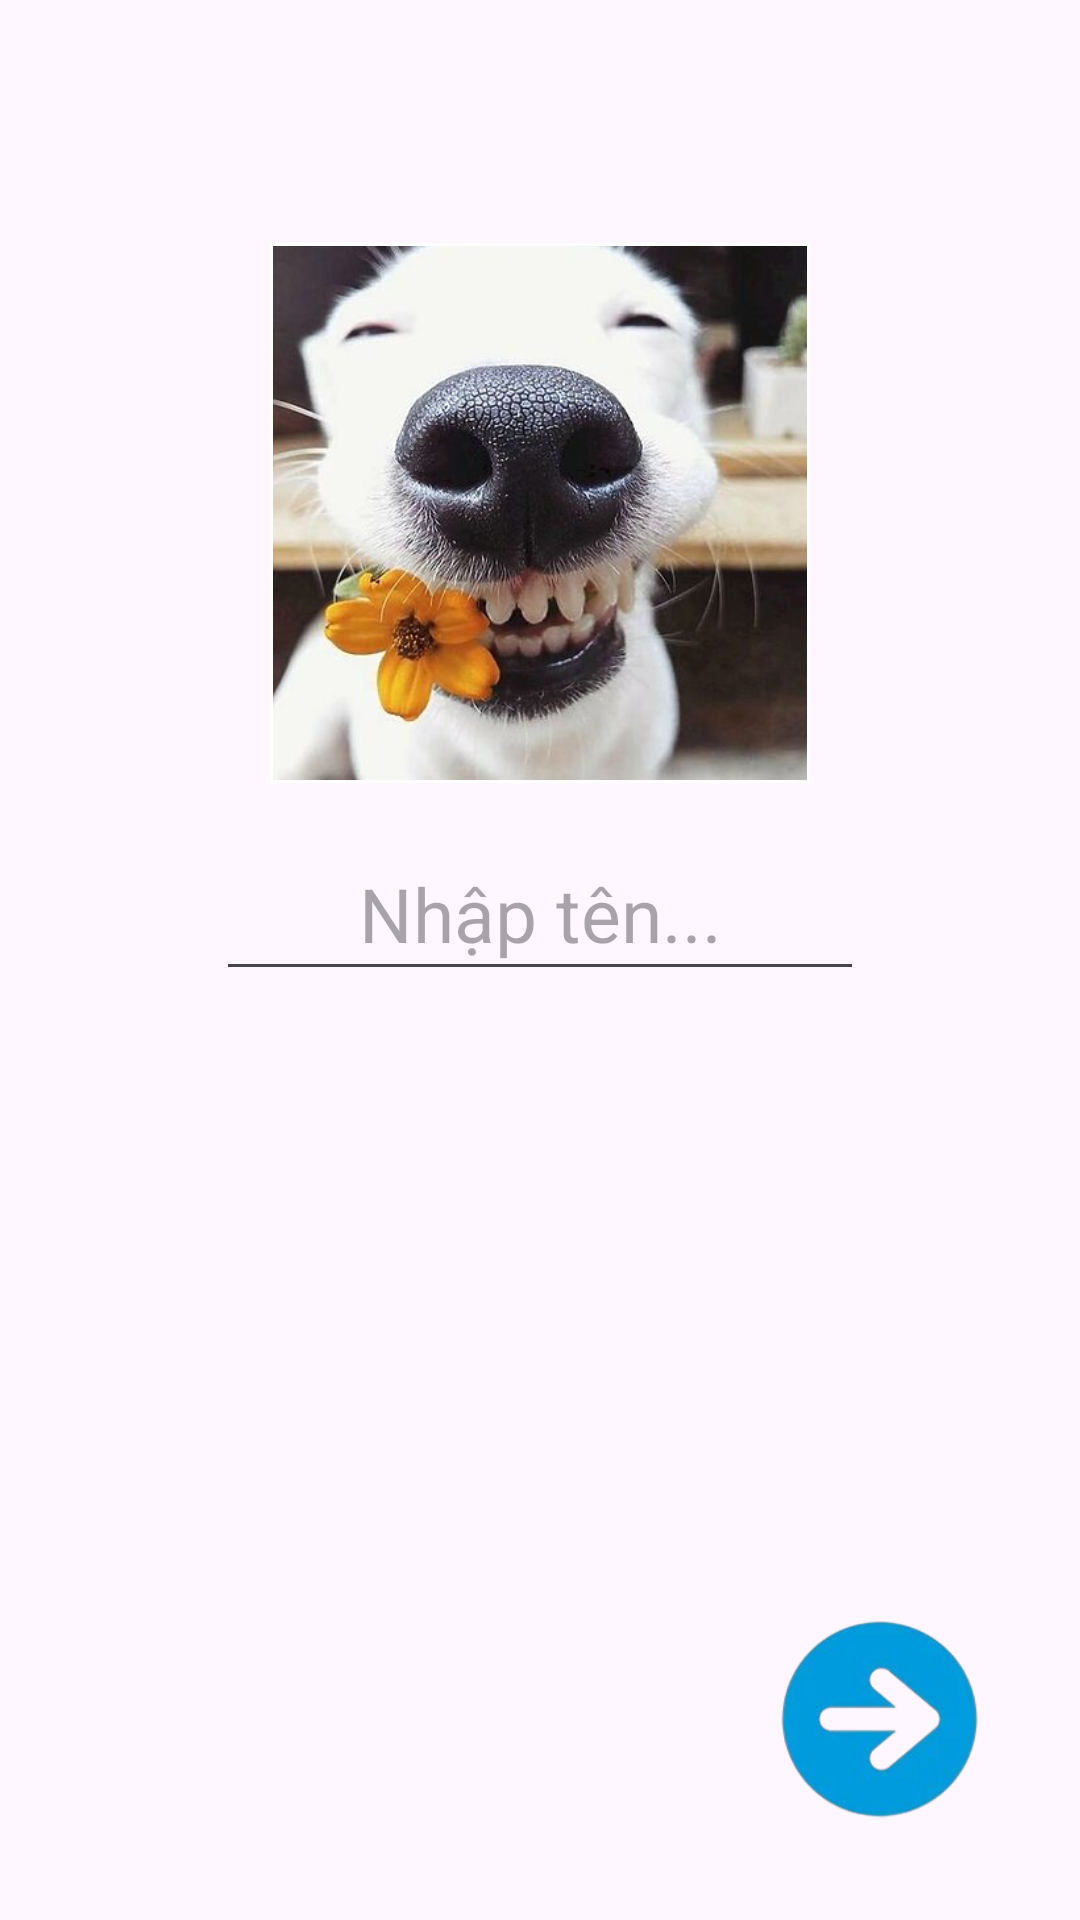

Point at icon controls on the screen. Image size 1080w x 1920h, points as (x,y).
Next: (879,1719)
